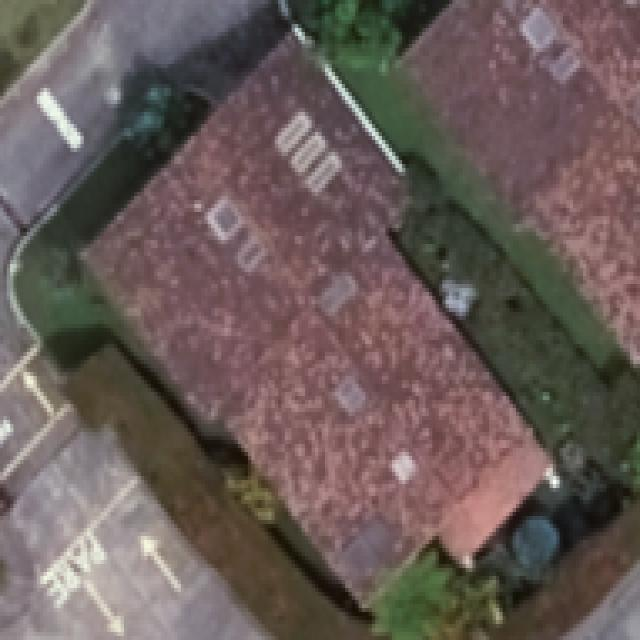Batiment: (85, 34, 550, 602), (403, 2, 640, 363)
